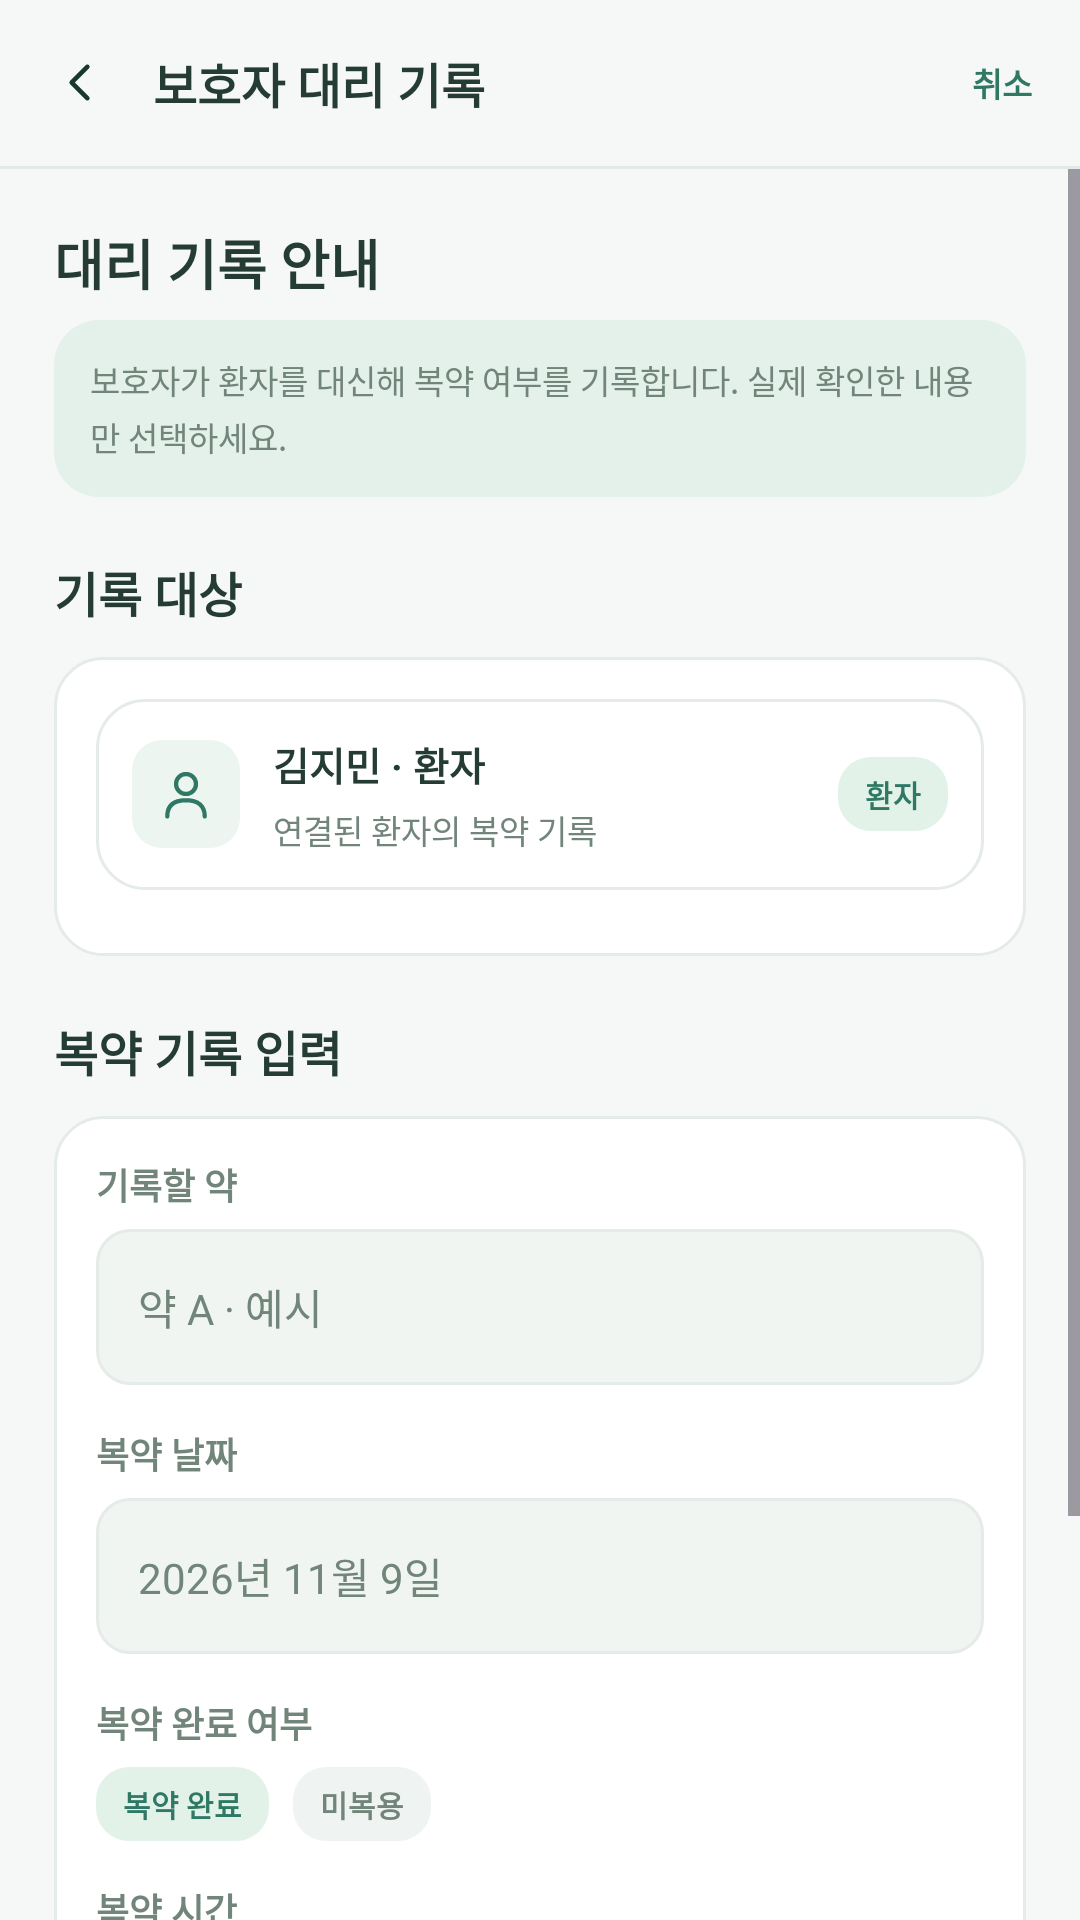

Icons on this 1080×1920 Android screen, each with the point to tap as (x,y):
back: (79,82)
user: (186,795)
